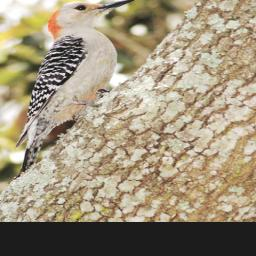Woodpecker: (4, 0, 139, 184)
